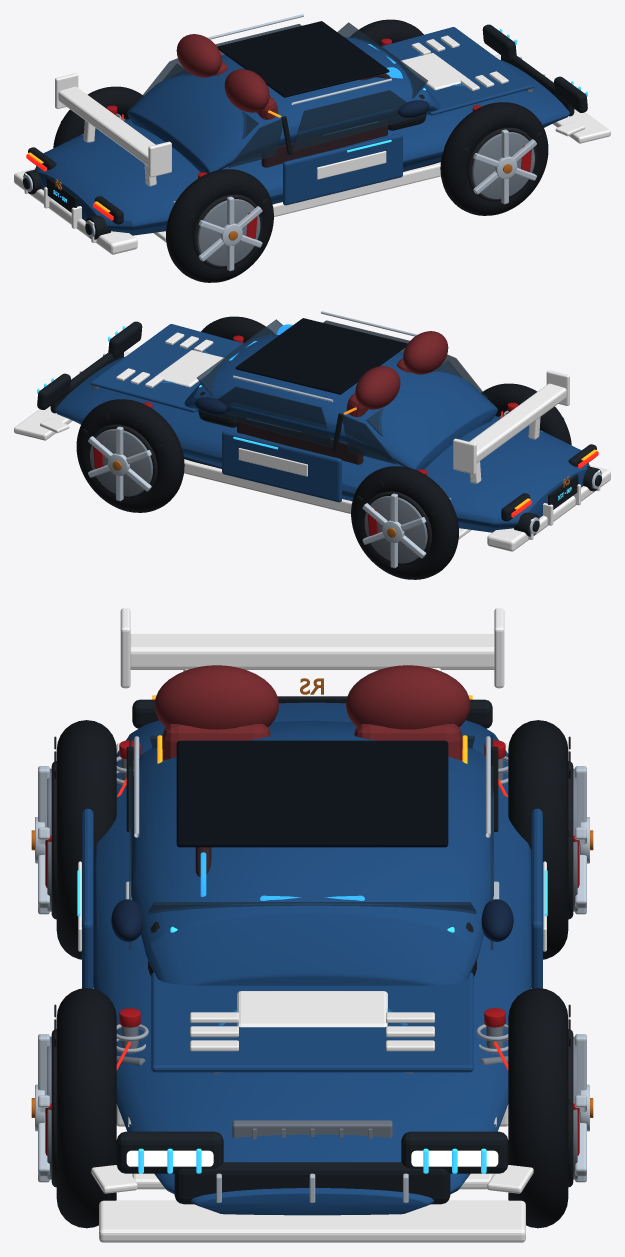
The model's file is SpectralGT.glb.
The picture shows the model from 3 angles, top to bottom: view 1: azimuth 30°, elevation 25°; view 2: azimuth 150°, elevation 25°; view 3: azimuth 270°, elevation 25°; orthographic projection. The views are drawn at different scales.
Visible parts, largest first — view 1: CABIN_Roof_Shell, BODY_Shell_Hero, Panoramic_Roof_Glass, Front_Left_Tire, Rear_Left_Tire, Hood_Center_Panel, Door_Skin_L, L_Glass_Main, Active_Wing_Blade, Door_Panel_-0.72, Front_Left_Rim_Base, Rear_Left_Rim_Base (+23 smaller); view 2: CABIN_Roof_Shell, BODY_Shell_Hero, Panoramic_Roof_Glass, Front_Right_Tire, Rear_Right_Tire, Hood_Center_Panel, Door_Skin_R, R_Glass_Main, Active_Wing_Blade, Door_Panel_0.72, Front_Right_Rim_Base, Rear_Right_Rim_Base (+23 smaller); view 3: CABIN_Roof_Shell, BODY_Shell_Hero, Panoramic_Roof_Glass, Hood_Center_Panel, Front_Splitter, Front_Left_Tire, Front_Right_Tire, Active_Wing_Blade, Rear_Right_Tire, Rear_Left_Tire, Front_Grille_Deep, Driver_Headrest (+23 smaller).
Part boxes in pixels (x1,y1,x2,y2): CABIN_Roof_Shell: (127, 37, 441, 173); BODY_Shell_Hero: (35, 59, 569, 235); Panoramic_Roof_Glass: (217, 21, 389, 97); Front_Left_Tire: (440, 102, 548, 215); Rear_Left_Tire: (166, 169, 273, 282); Hood_Center_Panel: (381, 27, 534, 115); Door_Skin_L: (283, 133, 402, 205); L_Glass_Main: (292, 90, 424, 151); Active_Wing_Blade: (58, 86, 155, 165); Door_Panel_-0.72: (261, 120, 387, 167); Front_Left_Rim_Base: (472, 132, 534, 199); Rear_Left_Rim_Base: (197, 199, 260, 266); CABIN_Roof_Shell: (183, 334, 497, 470); BODY_Shell_Hero: (55, 356, 589, 532); Panoramic_Roof_Glass: (235, 318, 407, 394); Front_Right_Tire: (76, 399, 184, 512); Rear_Right_Tire: (351, 466, 458, 579); Hood_Center_Panel: (90, 324, 243, 412); Door_Skin_R: (222, 430, 341, 502); R_Glass_Main: (201, 386, 332, 447); Active_Wing_Blade: (469, 383, 566, 462); Door_Panel_0.72: (237, 417, 363, 464); Front_Right_Rim_Base: (90, 429, 152, 496); Rear_Right_Rim_Base: (364, 496, 427, 563); CABIN_Roof_Shell: (131, 720, 493, 985); BODY_Shell_Hero: (93, 702, 531, 1215); Panoramic_Roof_Glass: (176, 740, 448, 847); Hood_Center_Panel: (151, 972, 473, 1072); Front_Splitter: (99, 1200, 525, 1242); Front_Left_Tire: (56, 988, 116, 1228); Front_Right_Tire: (508, 988, 568, 1228); Active_Wing_Blade: (130, 634, 494, 669); Rear_Right_Tire: (508, 720, 568, 959); Rear_Left_Tire: (56, 720, 116, 959); Front_Grille_Deep: (174, 1162, 450, 1204); Driver_Headrest: (154, 665, 278, 729).
Bounding box in the file's own units: 5.21 × 1.68 × 2.53.
